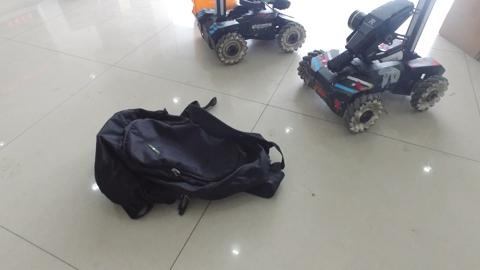bag: (95, 109, 285, 210)
chariot: (300, 3, 447, 130), (196, 3, 304, 60)
